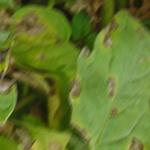Tomato Early blight leaf: (68, 19, 149, 147)
